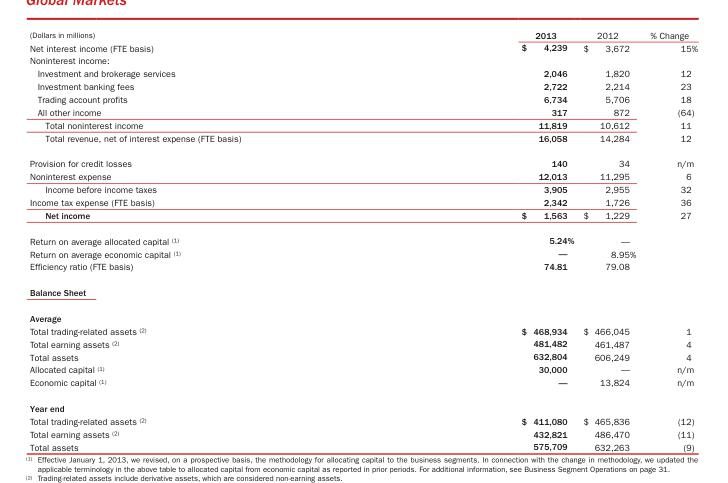table: (28, 29, 697, 451)
table column: (28, 29, 380, 451), (380, 29, 577, 451), (577, 29, 642, 451), (642, 29, 697, 451)
table column header: (28, 29, 697, 40)
table projected row header: (28, 279, 697, 304), (28, 304, 697, 324), (28, 394, 697, 414), (28, 53, 697, 66)
table row: (28, 279, 697, 304), (28, 259, 697, 279), (28, 304, 697, 324), (28, 394, 697, 414), (28, 131, 697, 150), (28, 150, 697, 169), (28, 208, 697, 227), (28, 227, 697, 246), (28, 375, 697, 394), (28, 40, 697, 53), (28, 53, 697, 66), (28, 66, 697, 79), (28, 79, 697, 92), (28, 92, 697, 105), (28, 105, 697, 118), (28, 118, 697, 131), (28, 169, 697, 182), (28, 182, 697, 195), (28, 195, 697, 208), (28, 246, 697, 259), (28, 324, 697, 337), (28, 349, 697, 362), (28, 362, 697, 375), (28, 414, 697, 427), (28, 427, 697, 440), (28, 337, 697, 349), (28, 29, 697, 40), (28, 440, 697, 451)
